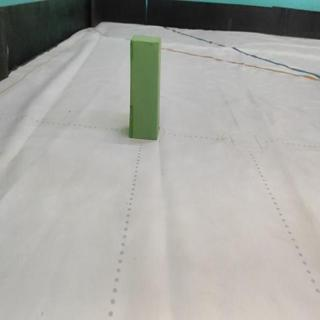greenbox: (127, 32, 161, 139)
